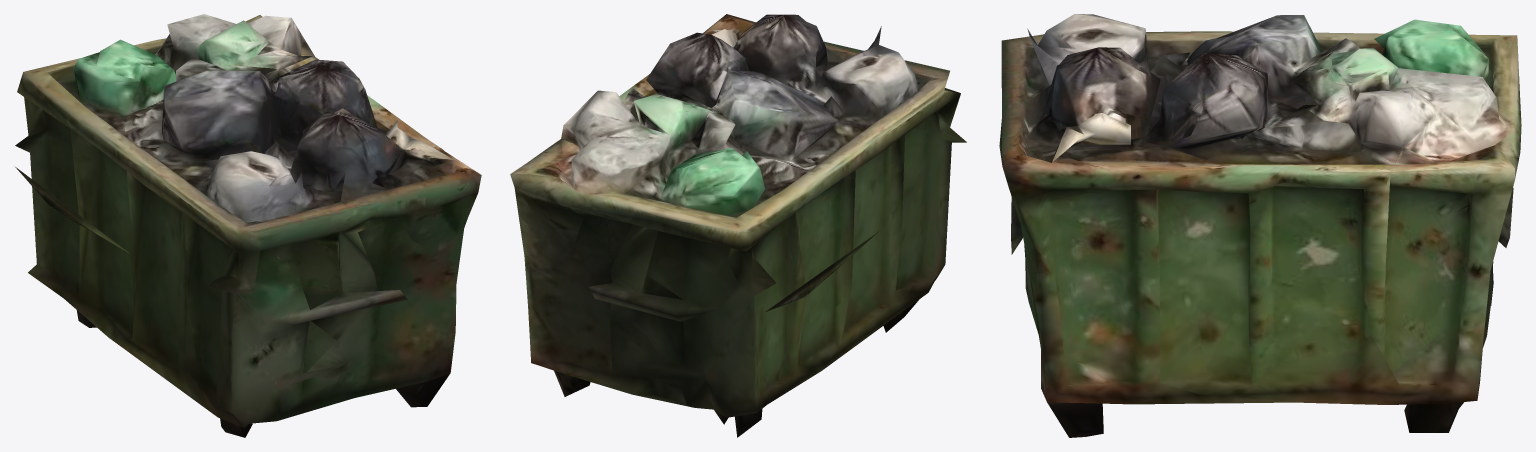
The model's file is e_dumpster.glb.
3 renders of one model, left to right at view 1: azimuth 30°, elevation 25°; view 2: azimuth 150°, elevation 25°; view 3: azimuth 270°, elevation 25°, orthographic. The views are drawn at different scales.
Parts seen in each view (by area): view 1: tripo_node_88fa5797-7468-4d5f-afb6-af72a9f96956; view 2: tripo_node_88fa5797-7468-4d5f-afb6-af72a9f96956; view 3: tripo_node_88fa5797-7468-4d5f-afb6-af72a9f96956.
Part boxes in pixels (x1,y1,x2,y2): tripo_node_88fa5797-7468-4d5f-afb6-af72a9f96956: [15, 14, 481, 437]; tripo_node_88fa5797-7468-4d5f-afb6-af72a9f96956: [510, 14, 966, 437]; tripo_node_88fa5797-7468-4d5f-afb6-af72a9f96956: [999, 14, 1521, 437].
Bounding box in the file's own units: 0.6755 × 0.7648 × 1.
1 material, 1 textured.
